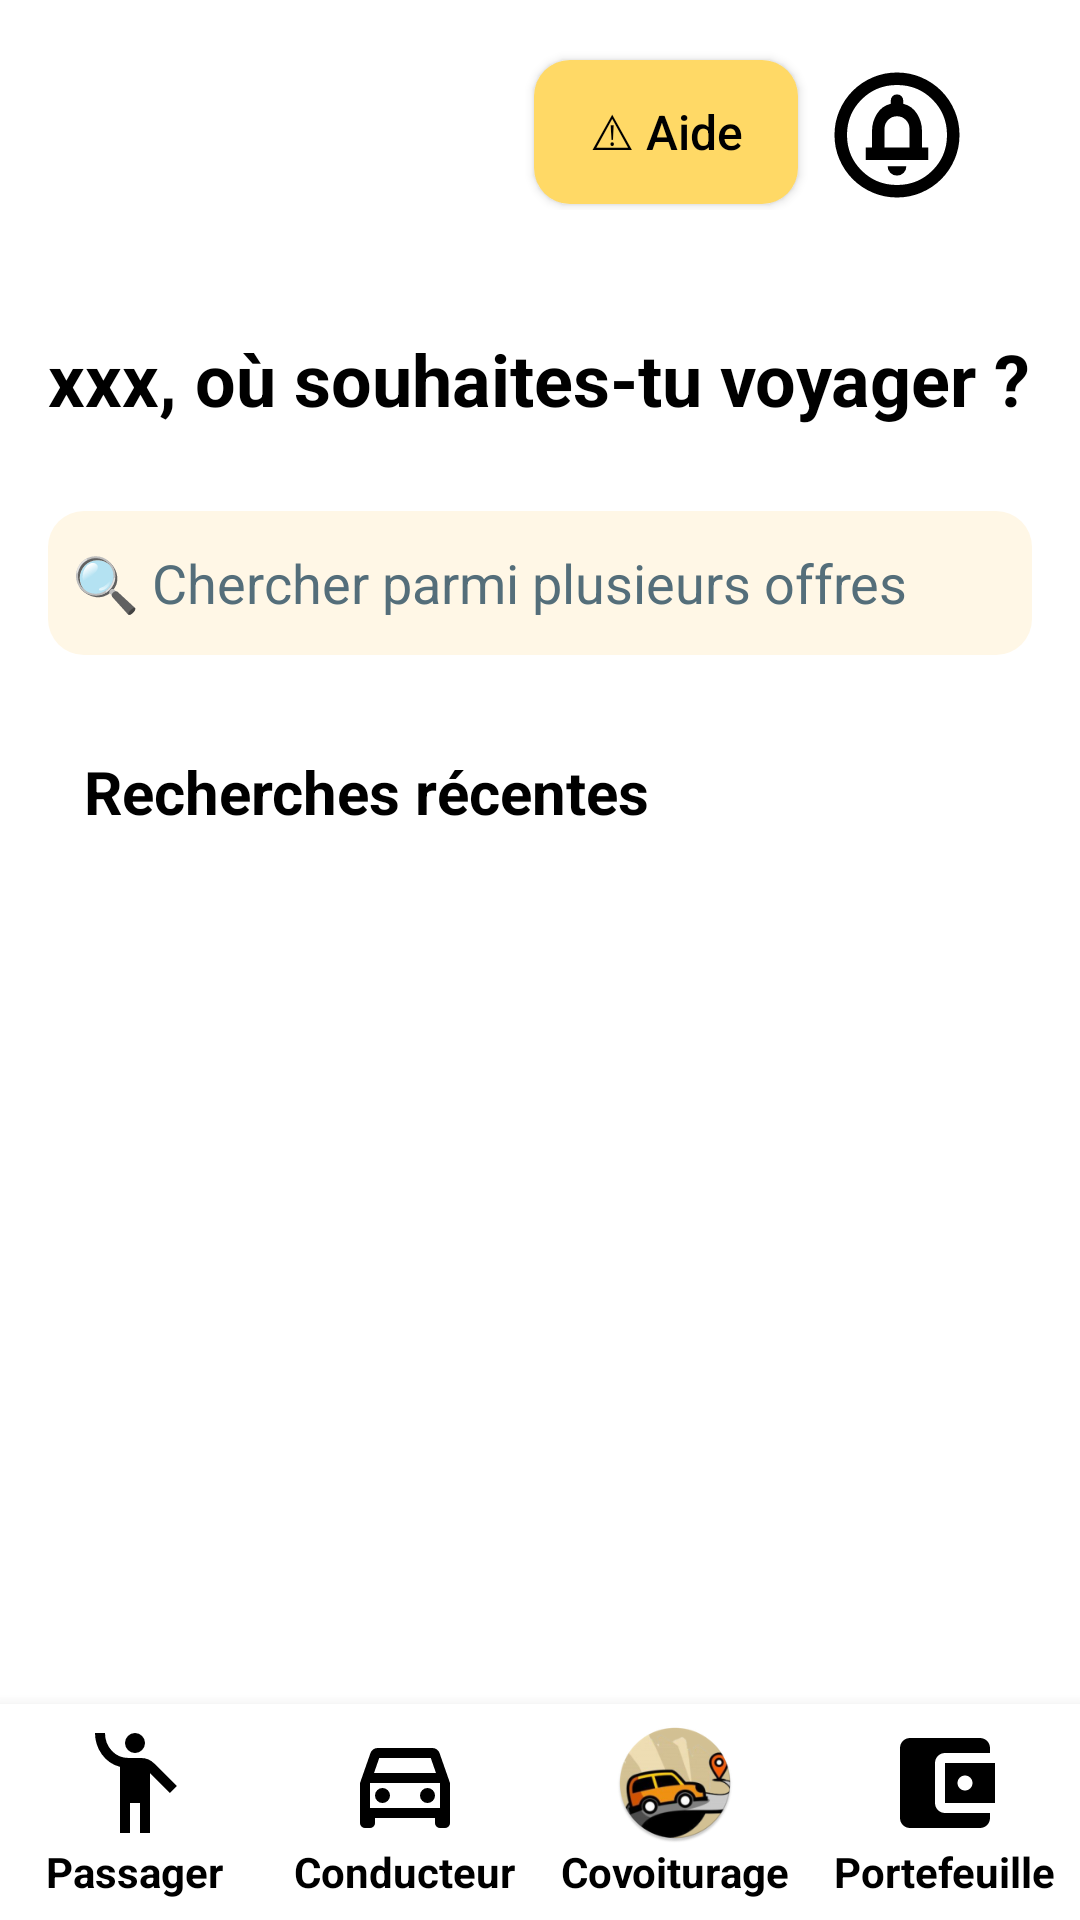

Where to tap for icons on this 1080×1920 app screen, as point (x, y):
directions car: point (405, 1788)
Notification: point (897, 135)
